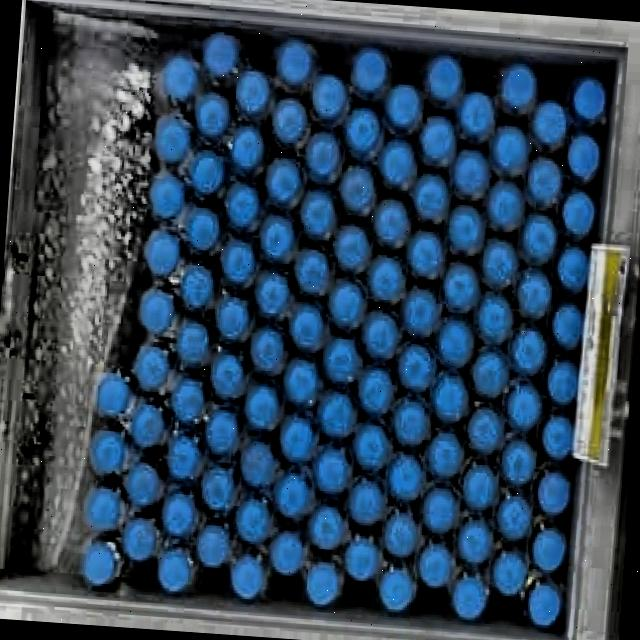vial: (262, 152, 303, 203), (256, 209, 297, 260), (376, 142, 418, 191), (423, 54, 465, 103), (266, 525, 304, 579), (419, 482, 457, 536), (314, 443, 351, 498), (498, 61, 537, 112), (234, 496, 273, 547), (339, 162, 377, 214), (469, 350, 510, 398), (513, 268, 552, 318), (228, 121, 266, 172), (350, 47, 388, 98), (275, 418, 319, 462), (317, 389, 357, 437), (177, 259, 216, 308), (173, 316, 209, 369), (413, 169, 450, 220), (332, 224, 373, 270), (188, 148, 227, 196), (494, 492, 533, 540), (498, 436, 537, 484), (406, 231, 444, 280), (356, 365, 394, 414), (450, 575, 491, 620), (148, 175, 188, 221), (456, 519, 496, 565), (378, 513, 418, 559), (144, 230, 183, 277), (301, 560, 339, 608), (431, 373, 469, 421), (527, 154, 562, 206), (299, 186, 334, 238), (544, 355, 579, 407), (294, 246, 331, 295), (170, 374, 206, 424), (205, 406, 241, 456), (154, 549, 194, 594), (160, 488, 196, 538), (548, 301, 584, 351), (269, 99, 308, 145), (252, 270, 290, 317), (223, 182, 261, 229), (243, 383, 281, 430), (527, 583, 565, 630), (539, 414, 577, 461), (466, 406, 504, 453), (442, 262, 479, 310), (373, 196, 410, 244), (363, 310, 400, 358), (508, 383, 545, 431), (480, 238, 516, 287), (419, 114, 455, 163), (288, 303, 324, 352), (426, 430, 462, 479), (163, 50, 198, 100), (522, 214, 557, 264), (344, 105, 379, 155), (275, 40, 313, 86), (403, 289, 441, 335), (487, 183, 524, 230), (323, 337, 360, 384), (477, 294, 514, 341), (212, 349, 246, 400), (399, 341, 433, 392), (275, 469, 311, 517), (354, 423, 390, 471), (535, 469, 571, 517), (461, 463, 496, 512), (366, 258, 403, 304), (282, 358, 319, 404), (241, 439, 275, 489), (221, 239, 257, 286), (512, 328, 548, 375), (566, 132, 601, 180), (230, 553, 265, 601), (87, 483, 122, 531), (491, 126, 529, 170), (305, 133, 343, 177), (447, 204, 481, 253), (82, 539, 116, 588), (138, 290, 175, 335), (201, 464, 238, 509), (491, 550, 528, 595), (349, 478, 386, 523), (195, 92, 231, 138), (234, 68, 270, 114), (167, 434, 203, 480), (203, 32, 238, 79), (560, 189, 595, 236), (531, 526, 566, 573), (439, 319, 474, 366), (154, 118, 192, 161), (378, 570, 416, 613), (309, 74, 346, 118), (213, 296, 249, 341), (186, 207, 222, 252), (127, 461, 163, 506), (308, 505, 344, 550), (132, 347, 171, 388), (533, 99, 567, 146), (91, 428, 127, 472), (418, 544, 454, 588), (330, 280, 364, 326), (250, 325, 283, 372), (343, 539, 379, 582), (573, 76, 608, 120), (131, 405, 166, 448), (454, 150, 488, 194), (394, 401, 428, 445), (556, 248, 589, 293), (122, 518, 155, 563), (461, 95, 493, 140), (97, 374, 129, 419), (196, 522, 228, 567), (389, 454, 421, 499), (387, 85, 418, 129)
